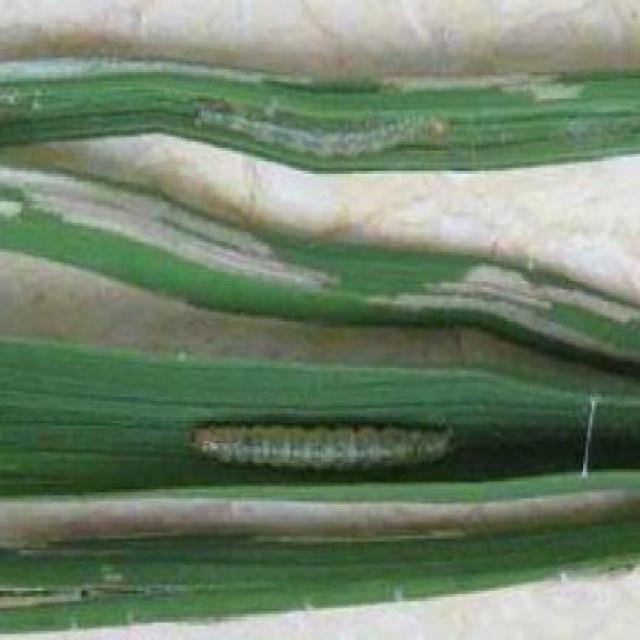leaf-folder: (178, 403, 468, 506), (172, 78, 458, 172)
